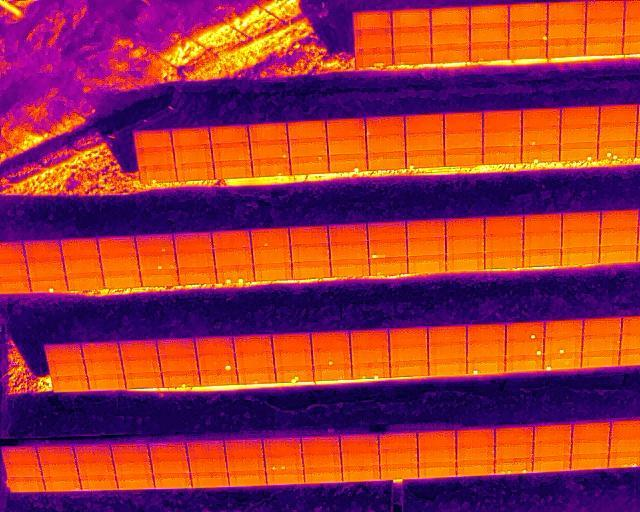Cell: (509, 21, 547, 41), (407, 149, 444, 169), (521, 143, 559, 162), (467, 356, 505, 375), (252, 229, 289, 248), (137, 235, 173, 254), (505, 338, 543, 356), (252, 159, 290, 177), (251, 142, 289, 160), (506, 322, 543, 340), (544, 352, 581, 370), (522, 126, 559, 144), (292, 155, 328, 173), (313, 348, 351, 365), (329, 155, 367, 172), (163, 369, 198, 387), (544, 336, 581, 353), (369, 241, 406, 258), (560, 143, 597, 160), (239, 367, 275, 384), (199, 353, 234, 370), (140, 166, 177, 182), (31, 276, 65, 293)
Cell-Multi: (138, 252, 175, 270), (599, 142, 636, 160), (217, 264, 253, 282), (495, 458, 532, 475), (277, 365, 313, 382), (266, 452, 301, 469), (352, 362, 389, 378), (609, 451, 640, 469)
No-Anomaly: (444, 146, 482, 167), (586, 17, 624, 37), (547, 0, 585, 20), (405, 114, 443, 134), (432, 43, 470, 63), (329, 224, 368, 243), (391, 9, 430, 28), (559, 124, 598, 143), (532, 454, 570, 473), (212, 230, 250, 249), (485, 217, 523, 236), (353, 11, 391, 30), (548, 20, 586, 39), (509, 2, 547, 21), (483, 146, 521, 165), (136, 148, 174, 167), (505, 354, 543, 373), (304, 466, 342, 485), (598, 123, 636, 142), (483, 110, 521, 129), (444, 113, 482, 132), (327, 120, 365, 139), (599, 106, 637, 125), (522, 108, 560, 127), (509, 40, 547, 59), (469, 23, 507, 42), (431, 25, 469, 44), (392, 27, 430, 46), (457, 427, 494, 446), (173, 128, 210, 147), (393, 46, 430, 65), (585, 36, 622, 55), (548, 39, 585, 58), (586, 0, 625, 18), (366, 118, 405, 136), (561, 106, 600, 124), (25, 241, 60, 261), (583, 317, 621, 335), (544, 319, 582, 337), (572, 422, 610, 440), (534, 424, 572, 442), (496, 426, 534, 444), (379, 432, 417, 450), (175, 232, 211, 251), (99, 235, 135, 254), (368, 223, 406, 241), (290, 228, 328, 246), (446, 218, 484, 236), (523, 215, 561, 233), (470, 5, 508, 23), (431, 8, 469, 26), (301, 433, 339, 451), (341, 448, 379, 466), (495, 442, 533, 460), (187, 439, 225, 457), (225, 439, 263, 457), (174, 145, 212, 163), (581, 351, 619, 369), (288, 122, 326, 140), (289, 139, 327, 157), (445, 130, 483, 148), (133, 131, 171, 149), (483, 128, 521, 146), (210, 126, 248, 144), (456, 459, 494, 477), (470, 42, 508, 60), (312, 331, 349, 349), (234, 334, 271, 352), (390, 327, 427, 345), (350, 329, 387, 347), (418, 430, 455, 448), (116, 473, 153, 491), (407, 221, 444, 239), (428, 358, 465, 376), (391, 359, 428, 377), (390, 343, 427, 361), (154, 471, 191, 489), (215, 160, 252, 178), (212, 143, 249, 161), (342, 464, 379, 482), (250, 124, 287, 142), (354, 30, 391, 48), (62, 238, 97, 257), (89, 373, 124, 392), (367, 136, 406, 153), (274, 333, 310, 351), (255, 262, 291, 280), (572, 453, 608, 471), (192, 470, 228, 488), (158, 338, 194, 356), (428, 326, 466, 343), (467, 324, 505, 341), (292, 261, 330, 278), (291, 244, 329, 261), (330, 243, 368, 260), (74, 444, 112, 461), (534, 440, 572, 457), (467, 340, 505, 357), (406, 133, 444, 150), (418, 462, 456, 479), (197, 336, 232, 354), (104, 271, 139, 289), (38, 444, 73, 462), (160, 354, 195, 372), (83, 341, 118, 359), (121, 340, 156, 358), (177, 251, 214, 268), (408, 256, 445, 273), (523, 250, 560, 267), (446, 236, 483, 253), (408, 239, 445, 256), (80, 474, 117, 491), (562, 215, 599, 232), (226, 455, 263, 472), (380, 448, 417, 465), (418, 446, 455, 463), (572, 439, 609, 456), (368, 153, 405, 170), (381, 463, 418, 480), (302, 451, 341, 467), (328, 139, 367, 155), (67, 273, 101, 291), (141, 270, 177, 287), (179, 266, 215, 283), (102, 253, 136, 271), (562, 231, 598, 248), (264, 436, 300, 453), (86, 358, 120, 376), (236, 351, 272, 368), (77, 459, 113, 476), (484, 252, 522, 268), (331, 261, 369, 277), (523, 234, 561, 250), (485, 236, 523, 252), (341, 434, 379, 450), (456, 445, 494, 461), (3, 445, 35, 464), (429, 342, 467, 358), (64, 257, 99, 274), (601, 229, 636, 246), (601, 212, 636, 229), (150, 442, 185, 459), (113, 443, 148, 460), (127, 372, 162, 389), (153, 456, 188, 473), (214, 249, 251, 265), (582, 335, 619, 351), (447, 254, 484, 270), (562, 249, 599, 265), (267, 470, 304, 486), (228, 471, 265, 487), (314, 364, 351, 380), (177, 164, 214, 180), (28, 260, 62, 277), (124, 356, 158, 373), (47, 344, 81, 361), (253, 247, 289, 263), (600, 246, 636, 262), (352, 346, 388, 362), (53, 375, 86, 392), (275, 351, 310, 367), (42, 462, 77, 478), (115, 459, 150, 475), (369, 259, 406, 274), (51, 359, 83, 376), (6, 462, 40, 478), (189, 457, 225, 472), (200, 370, 236, 385), (10, 476, 42, 492), (45, 477, 78, 492)
Unclassified: (355, 48, 392, 67)
